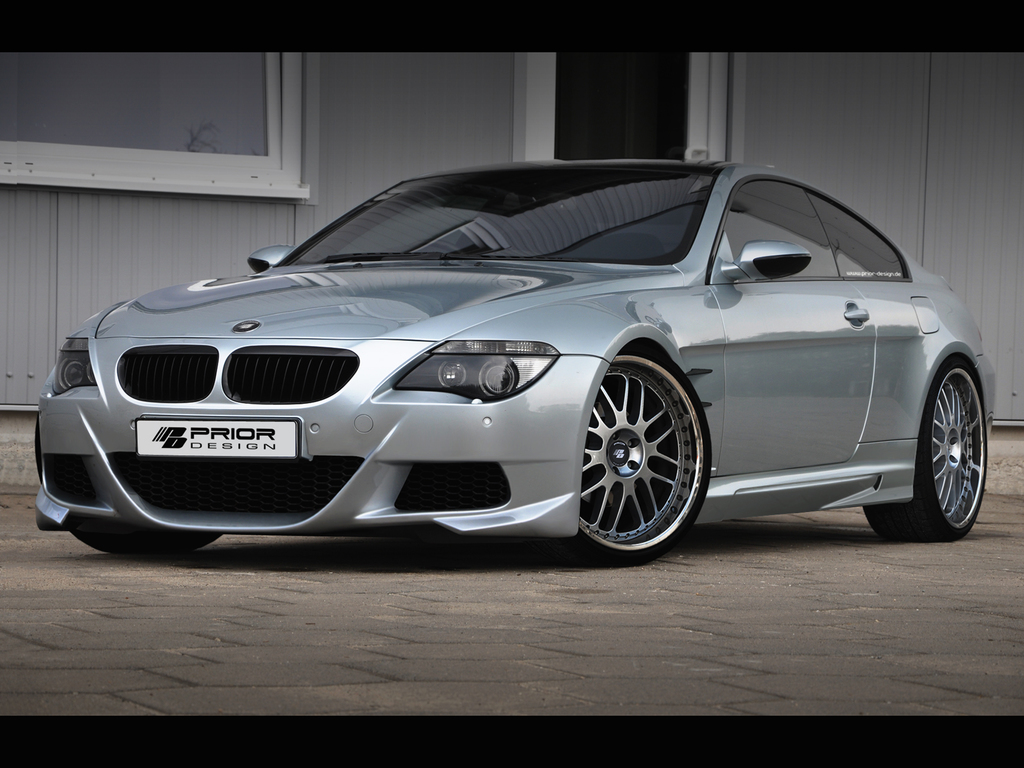Car: (33, 152, 1002, 565)
